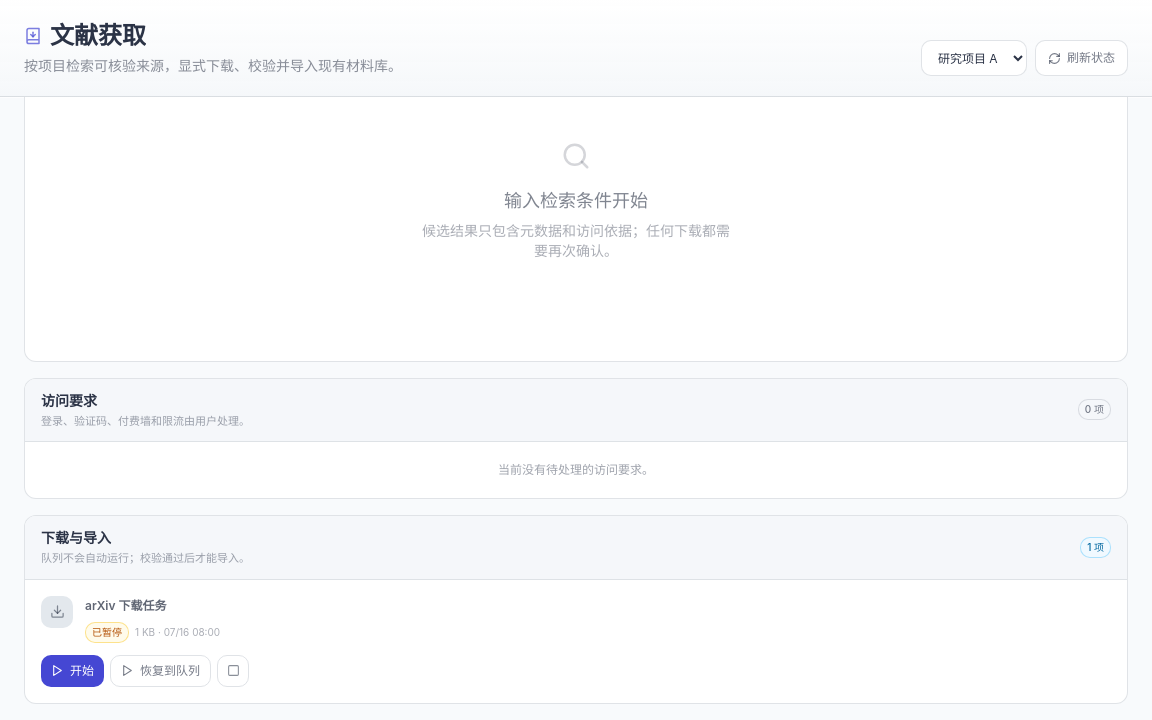
Test: LiteratureAcquisition › requeues a paused job through the control endpoint without hidden execution
(page scrolled)
Step 1. Click the button "恢复到队列" → (160, 670), box [110, 654, 211, 686]
(page scrolled)
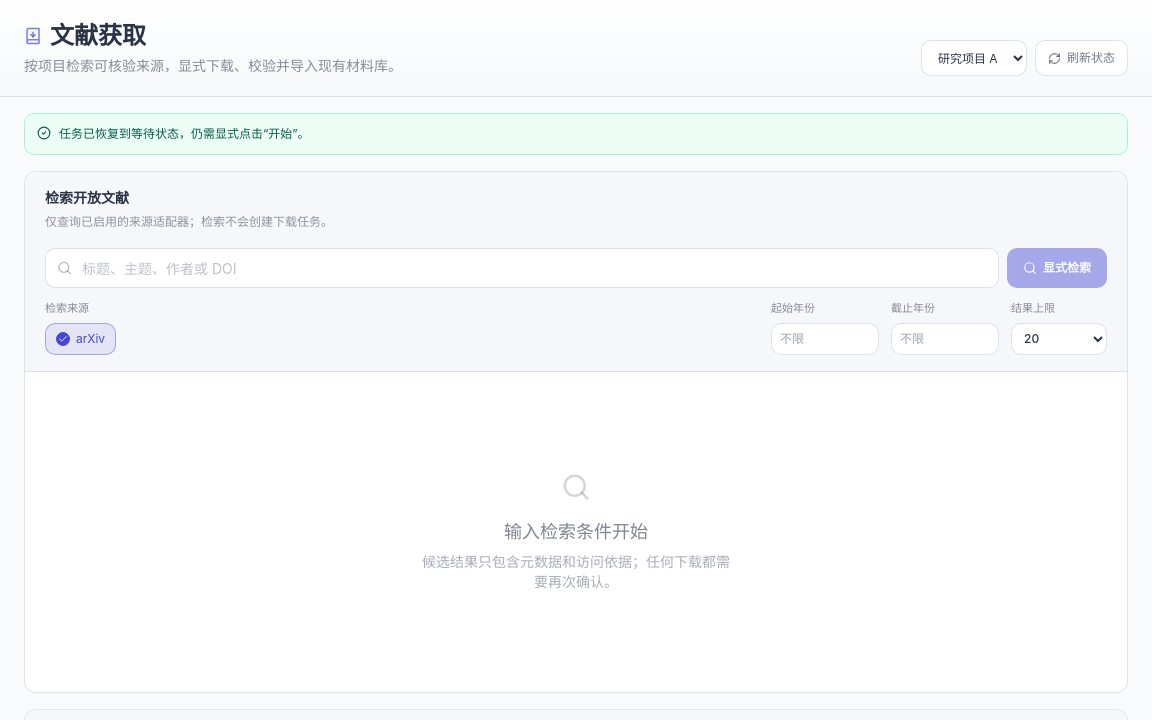
Check: the text "任务已恢复到等待状态，仍需显式点击“开始”。" is shown, box [59, 124, 310, 144]
